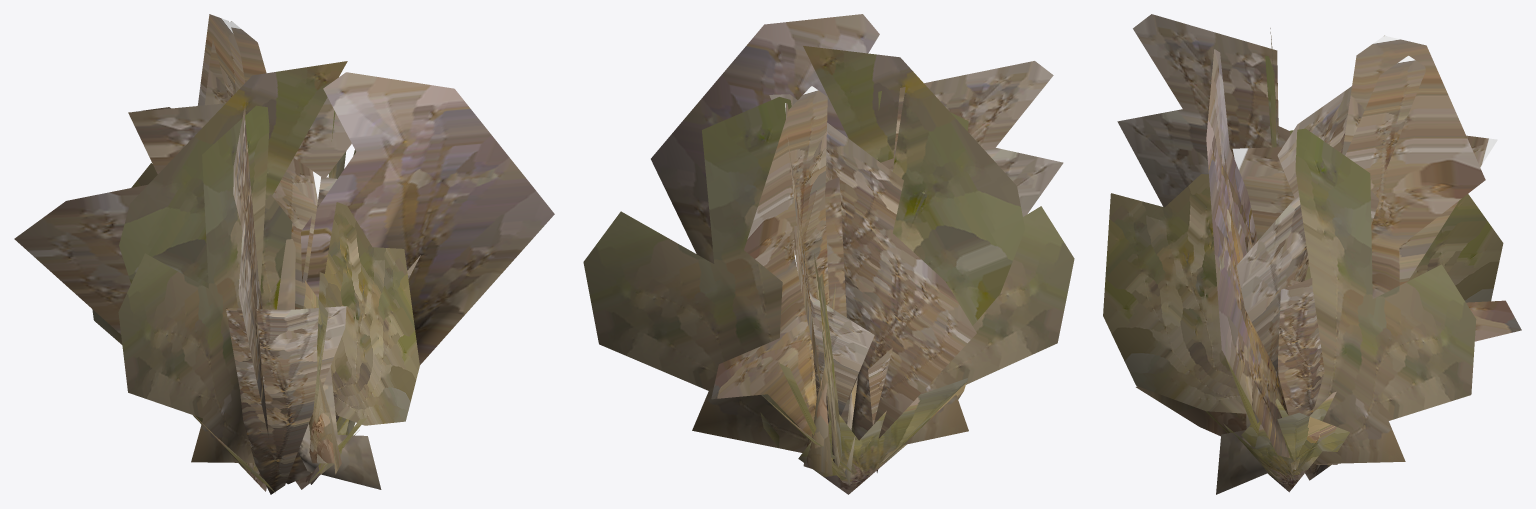
File: MOD_PlantScrub_C.fbx
3 renders of one model, left to right at view 1: azimuth 30°, elevation 25°; view 2: azimuth 150°, elevation 25°; view 3: azimuth 270°, elevation 25°, orthographic. The views are drawn at different scales.
Visible parts, largest first — view 1: MOD_PlantScrub_C; view 2: MOD_PlantScrub_C; view 3: MOD_PlantScrub_C.
Boxes of the visible parts, x1,y1,x2,y2 form: MOD_PlantScrub_C: [14, 14, 554, 494]; MOD_PlantScrub_C: [583, 14, 1074, 494]; MOD_PlantScrub_C: [1103, 14, 1521, 494].
Bounding box in the file's own units: 57.91 × 56.65 × 48.
Materials: 1 (1 with a texture image).
